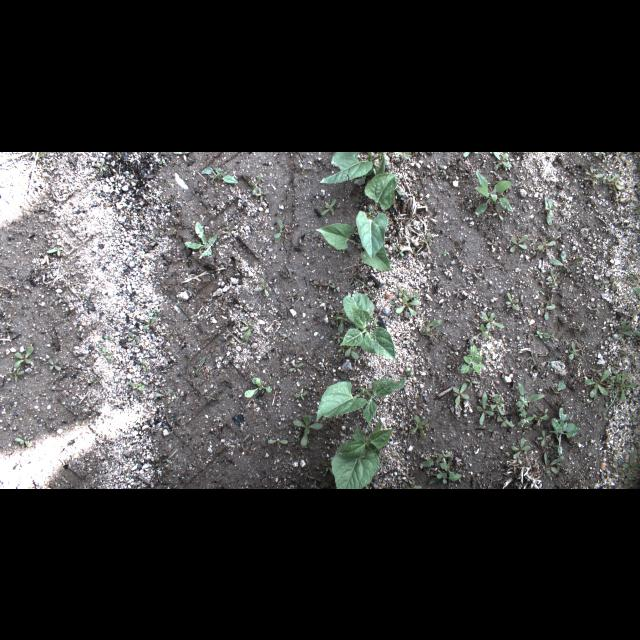crop: (332, 412, 392, 488), (316, 375, 404, 425), (341, 291, 397, 361), (354, 173, 398, 259), (316, 222, 392, 270), (314, 152, 388, 182)
weed: (471, 167, 514, 216), (180, 216, 218, 258), (551, 406, 583, 449), (289, 414, 327, 448), (550, 248, 586, 278), (611, 368, 637, 406), (514, 378, 544, 408), (460, 346, 486, 378), (242, 376, 276, 399), (581, 370, 611, 396), (476, 390, 496, 428), (422, 449, 456, 471), (10, 342, 36, 370), (392, 294, 422, 318), (199, 166, 239, 182), (544, 447, 564, 477), (478, 308, 508, 328), (510, 436, 534, 460), (408, 416, 430, 442), (540, 192, 556, 226), (252, 173, 268, 205), (452, 382, 470, 410), (539, 302, 561, 324), (620, 452, 636, 482), (610, 322, 634, 341), (270, 216, 286, 244), (434, 469, 462, 485), (543, 264, 563, 286), (508, 232, 528, 254), (582, 164, 602, 186), (535, 238, 559, 256), (268, 430, 292, 446), (516, 408, 536, 426), (493, 152, 513, 170), (200, 357, 217, 378), (4, 369, 26, 385), (604, 174, 622, 193), (98, 344, 115, 364), (242, 318, 256, 342), (568, 338, 584, 359), (423, 322, 441, 340), (552, 376, 570, 394), (320, 200, 340, 216), (53, 290, 73, 306), (504, 290, 520, 310), (260, 274, 274, 296), (528, 348, 542, 370), (496, 409, 512, 427), (592, 274, 612, 288), (12, 436, 34, 448), (130, 376, 146, 392), (141, 315, 157, 331), (312, 273, 328, 289), (538, 430, 554, 446), (156, 385, 174, 399), (47, 358, 65, 372), (49, 242, 66, 256), (341, 348, 364, 358), (127, 332, 141, 348), (337, 309, 345, 337), (494, 388, 504, 410), (288, 362, 306, 374), (296, 388, 314, 400), (420, 234, 432, 252), (439, 246, 455, 258), (86, 371, 100, 384), (397, 282, 409, 296), (406, 473, 420, 485), (406, 364, 416, 380), (484, 240, 500, 250), (329, 278, 341, 290), (94, 160, 108, 170), (282, 331, 294, 342), (537, 333, 559, 339), (487, 427, 499, 438), (140, 360, 150, 372), (480, 326, 490, 338), (318, 464, 328, 476), (576, 324, 590, 332), (592, 151, 610, 157), (405, 336, 415, 346), (632, 284, 638, 296), (461, 152, 472, 158)
